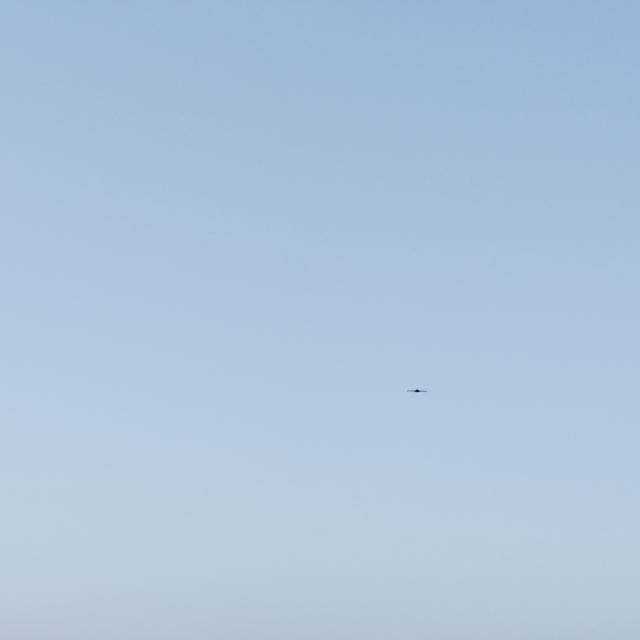Airaplan: (407, 388, 427, 393)
